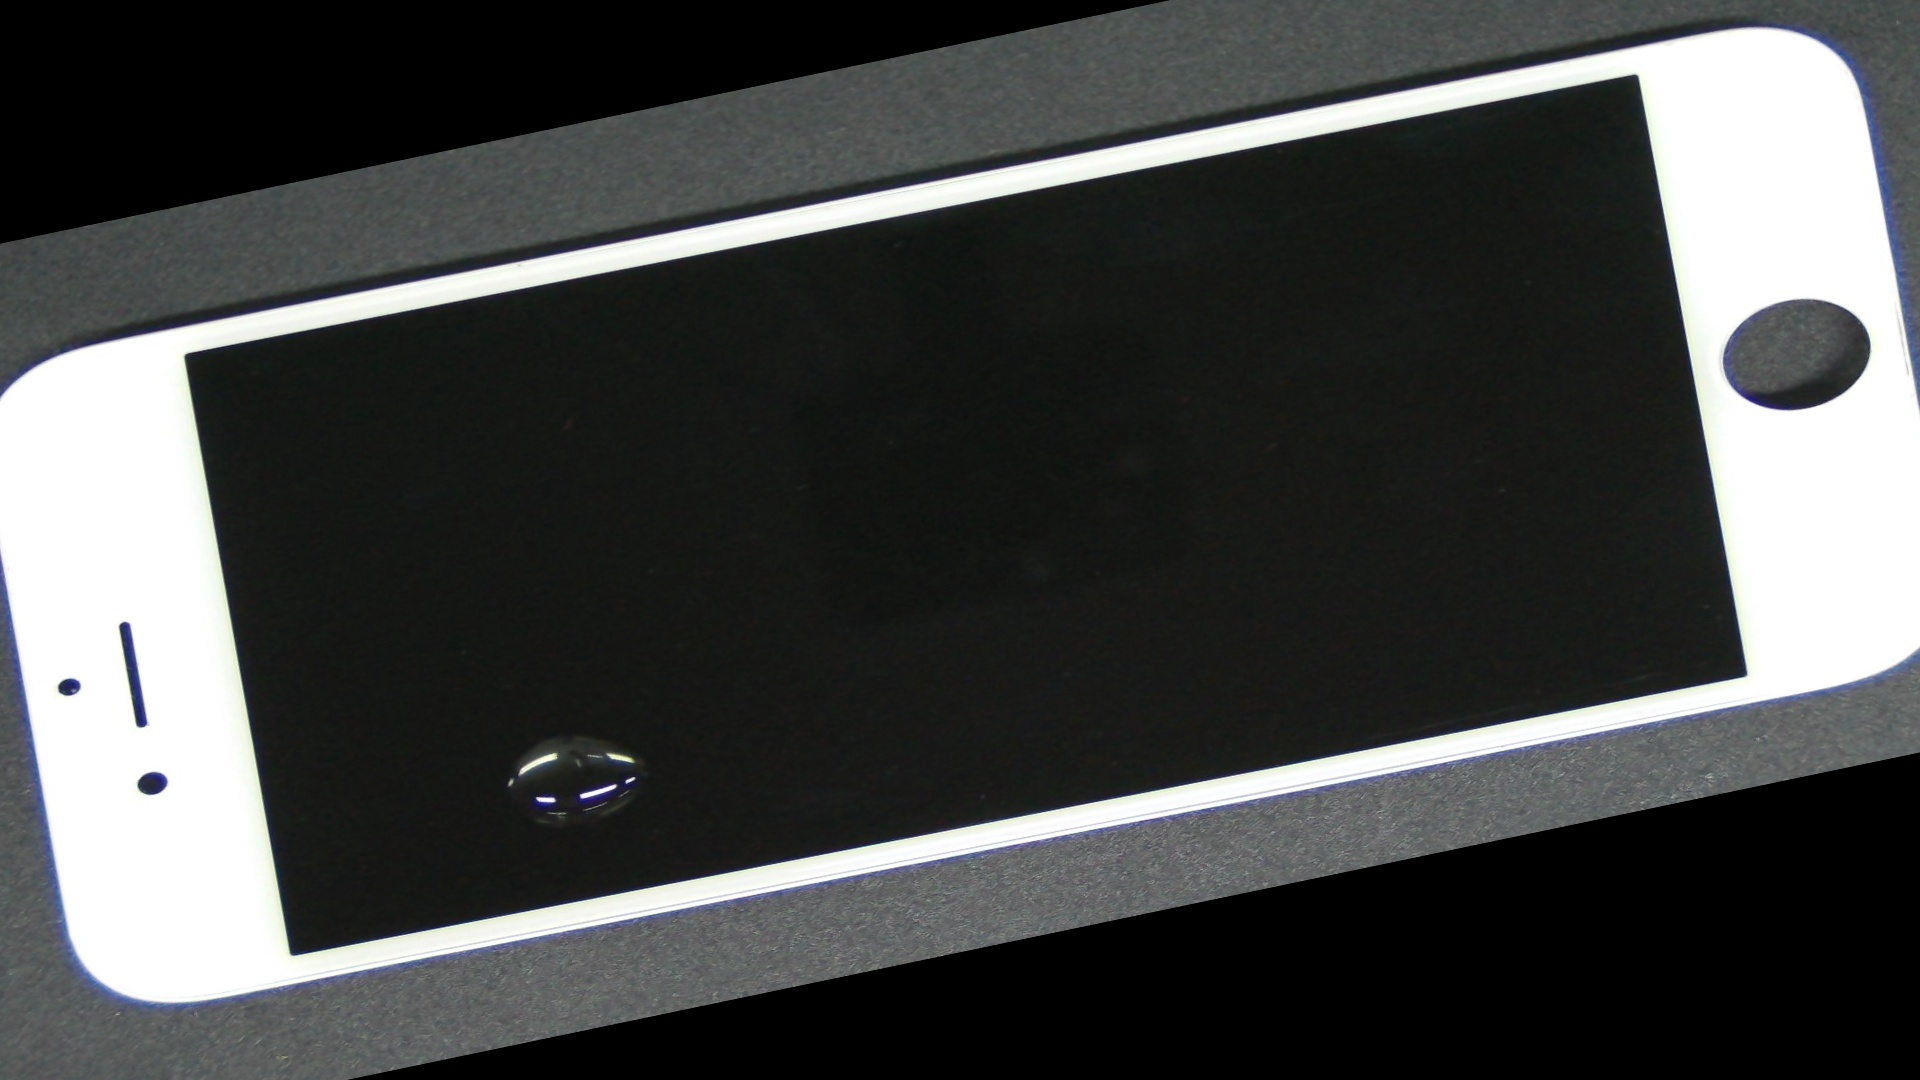oil: (189, 381, 920, 1080)
